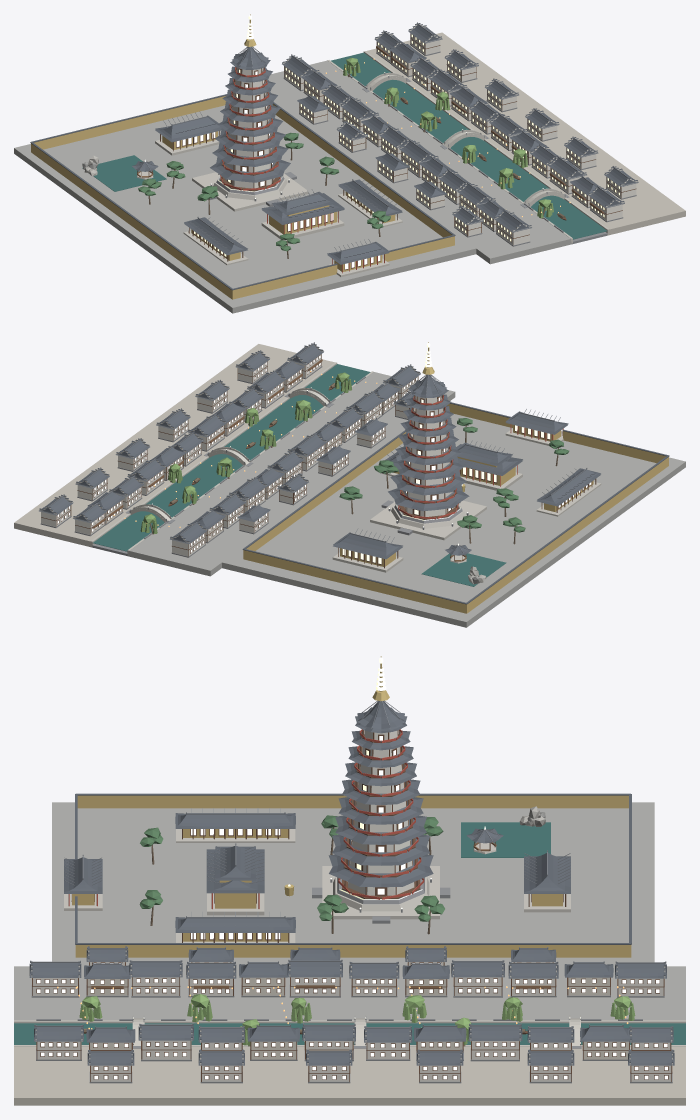
The model's file is beisi_pingjiang.glb.
3 views of the same model, one above another, from view 1: azimuth 30°, elevation 25°; view 2: azimuth 150°, elevation 25°; view 3: azimuth 270°, elevation 25° (orthographic). The views are drawn at different scales.
Parts seen in each view (by area): view 1: BeisiPingjiang_flagstone, BeisiPingjiang_dark_tile, BeisiPingjiang_white_wall, BeisiPingjiang_ochre_wall, BeisiPingjiang_water, BeisiPingjiang_courtyard, BeisiPingjiang_dark_wood, BeisiPingjiang_stone_light, BeisiPingjiang_emissive_win, BeisiPingjiang_stone_dark, BeisiPingjiang_tile_ridge, BeisiPingjiang_willow (+3 smaller); view 2: BeisiPingjiang_flagstone, BeisiPingjiang_dark_tile, BeisiPingjiang_white_wall, BeisiPingjiang_ochre_wall, BeisiPingjiang_water, BeisiPingjiang_courtyard, BeisiPingjiang_dark_wood, BeisiPingjiang_stone_light, BeisiPingjiang_stone_dark, BeisiPingjiang_emissive_win, BeisiPingjiang_tile_ridge, BeisiPingjiang_willow (+3 smaller); view 3: BeisiPingjiang_flagstone, BeisiPingjiang_dark_tile, BeisiPingjiang_courtyard, BeisiPingjiang_white_wall, BeisiPingjiang_ochre_wall, BeisiPingjiang_dark_wood, BeisiPingjiang_stone_light, BeisiPingjiang_water, BeisiPingjiang_emissive_win, BeisiPingjiang_tile_ridge, BeisiPingjiang_stone_dark, BeisiPingjiang_cream_wall (+3 smaller).
Boxes of the visible parts, <box> form: BeisiPingjiang_flagstone: <box>14,60,572,313</box>; BeisiPingjiang_dark_tile: <box>30,23,638,290</box>; BeisiPingjiang_white_wall: <box>224,24,637,245</box>; BeisiPingjiang_ochre_wall: <box>31,95,454,299</box>; BeisiPingjiang_water: <box>82,52,607,239</box>; BeisiPingjiang_courtyard: <box>366,32,685,235</box>; BeisiPingjiang_dark_wood: <box>137,33,636,270</box>; BeisiPingjiang_stone_light: <box>137,51,609,277</box>; BeisiPingjiang_emissive_win: <box>176,34,619,269</box>; BeisiPingjiang_stone_dark: <box>209,44,636,246</box>; BeisiPingjiang_tile_ridge: <box>132,22,629,257</box>; BeisiPingjiang_willow: <box>343,57,553,218</box>; BeisiPingjiang_flagstone: <box>127,372,685,627</box>; BeisiPingjiang_dark_tile: <box>39,343,669,604</box>; BeisiPingjiang_white_wall: <box>39,344,454,556</box>; BeisiPingjiang_ochre_wall: <box>243,403,668,613</box>; BeisiPingjiang_water: <box>93,364,506,586</box>; BeisiPingjiang_courtyard: <box>14,344,334,547</box>; BeisiPingjiang_dark_wood: <box>41,354,596,568</box>; BeisiPingjiang_stone_light: <box>91,362,601,572</box>; BeisiPingjiang_stone_dark: <box>40,366,475,557</box>; BeisiPingjiang_emissive_win: <box>57,355,591,564</box>; BeisiPingjiang_tile_ridge: <box>47,342,595,555</box>; BeisiPingjiang_willow: <box>140,372,351,533</box>; BeisiPingjiang_flagstone: <box>14,802,685,1020</box>; BeisiPingjiang_dark_tile: <box>29,701,674,1065</box>; BeisiPingjiang_courtyard: <box>14,1046,685,1105</box>; BeisiPingjiang_white_wall: <box>31,730,672,1081</box>; BeisiPingjiang_ochre_wall: <box>72,795,631,957</box>; BeisiPingjiang_dark_wood: <box>32,730,672,1081</box>; BeisiPingjiang_stone_light: <box>14,829,685,1046</box>; BeisiPingjiang_water: <box>14,822,685,1044</box>; BeisiPingjiang_emissive_win: <box>37,730,667,1079</box>; BeisiPingjiang_tile_ridge: <box>30,700,674,1052</box>; BeisiPingjiang_stone_dark: <box>31,877,672,1083</box>; BeisiPingjiang_cream_wall: <box>87,977,628,1059</box>.
Size of the model in its own units: 202 by 78.75 by 194.
